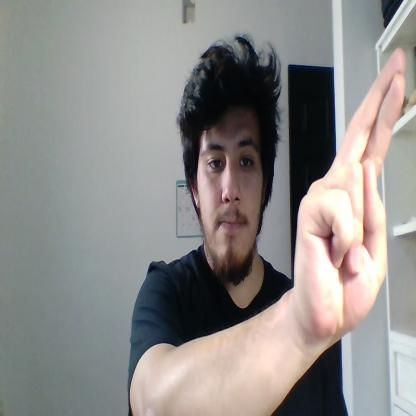R: (295, 48, 405, 336)
